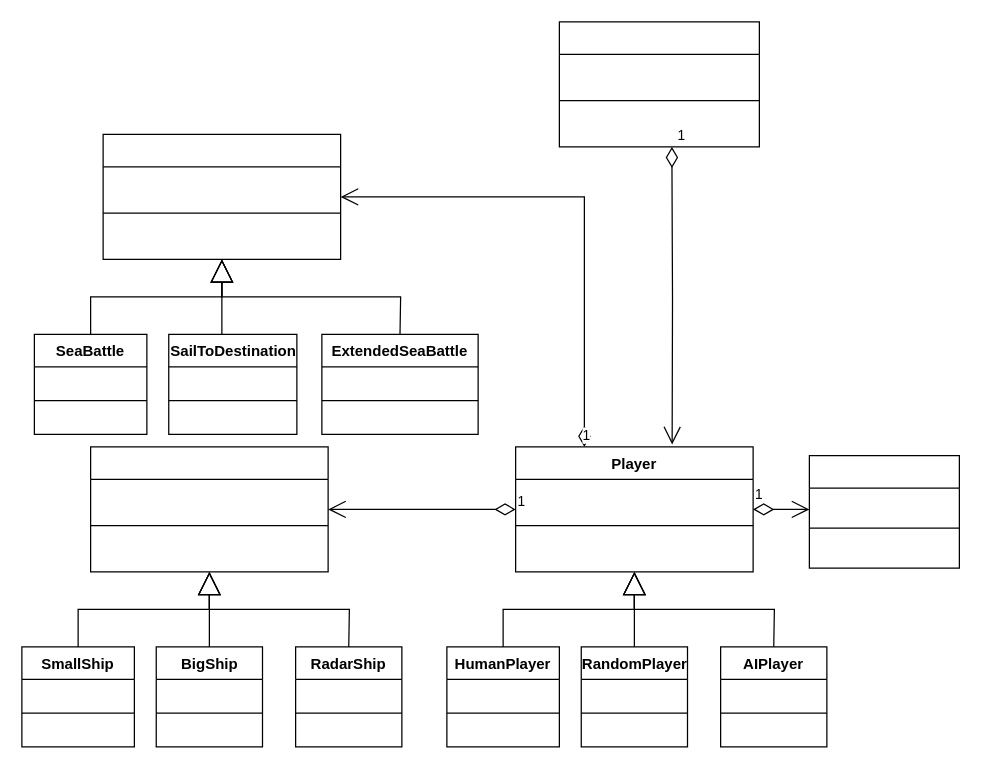
Image size: 981x769. Some labels were removed from this diagram. Each missing label, with the box of its shape:
Game: (558, 21, 759, 147)
GameRules: (102, 133, 341, 259)
Map: (808, 454, 959, 568)
Ship: (89, 446, 328, 572)
